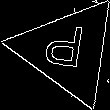P_S: (44, 23, 91, 78)
